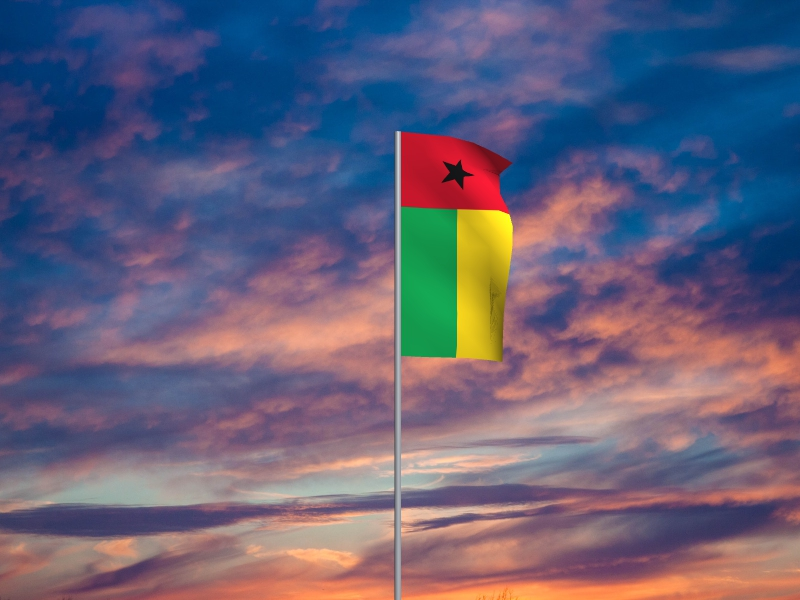gw: (402, 133, 515, 363)
